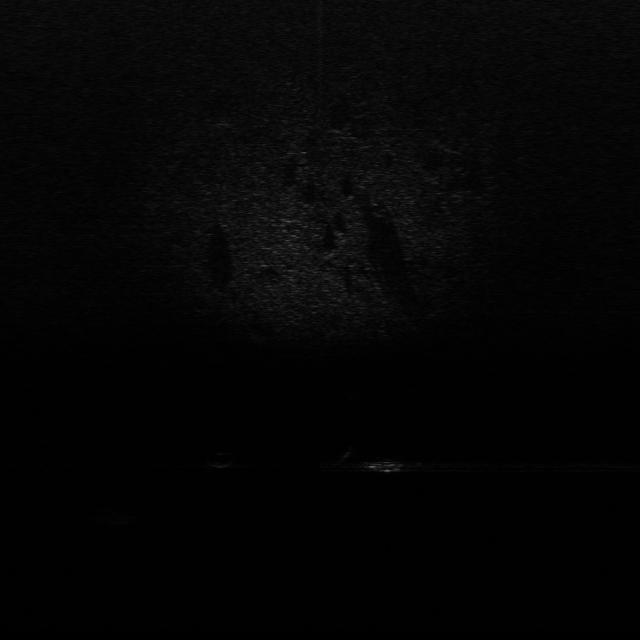ball: (208, 449, 238, 471)
circle cage: (90, 504, 136, 532)
human body: (330, 442, 414, 477)
